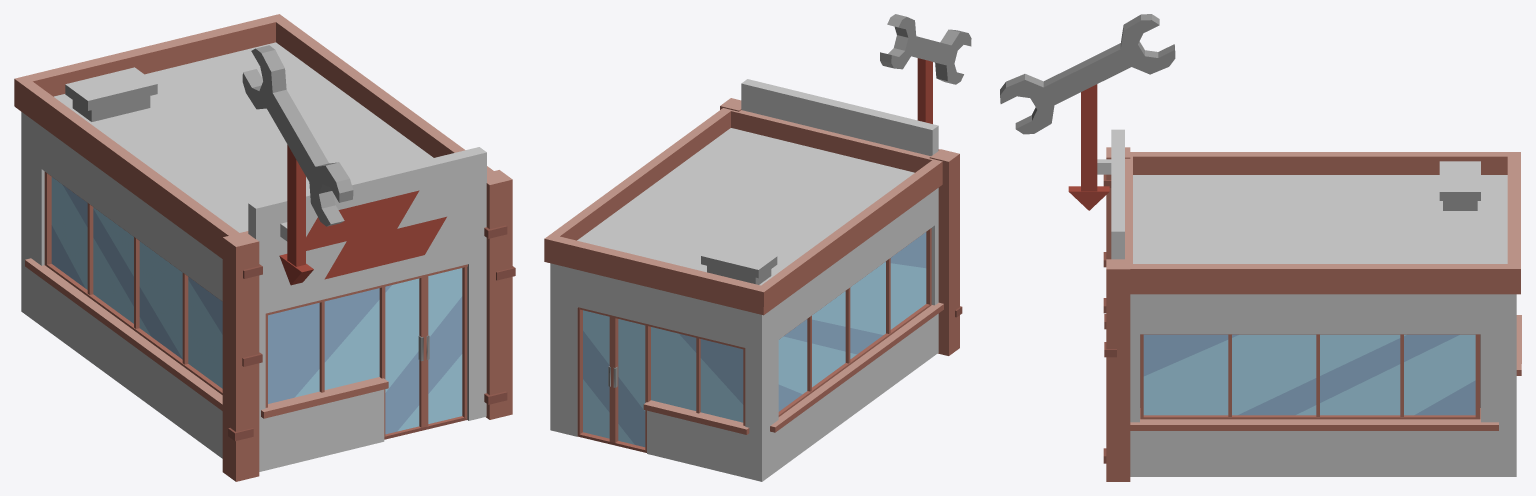
File: services_store_007.fbx
The picture shows the model from 3 angles, left to right: view 1: azimuth 30°, elevation 25°; view 2: azimuth 150°, elevation 25°; view 3: azimuth 270°, elevation 25°; orthographic projection. The views are drawn at different scales.
Parts seen in each view (by area): view 1: services_store_007; view 2: services_store_007; view 3: services_store_007.
Part boxes in pixels (left/top/right/bottom): services_store_007: left=14, top=14, right=515, bottom=481; services_store_007: left=544, top=14, right=971, bottom=481; services_store_007: left=1000, top=14, right=1521, bottom=481.
Bounding box in the file's own units: 404 × 556 × 720.
